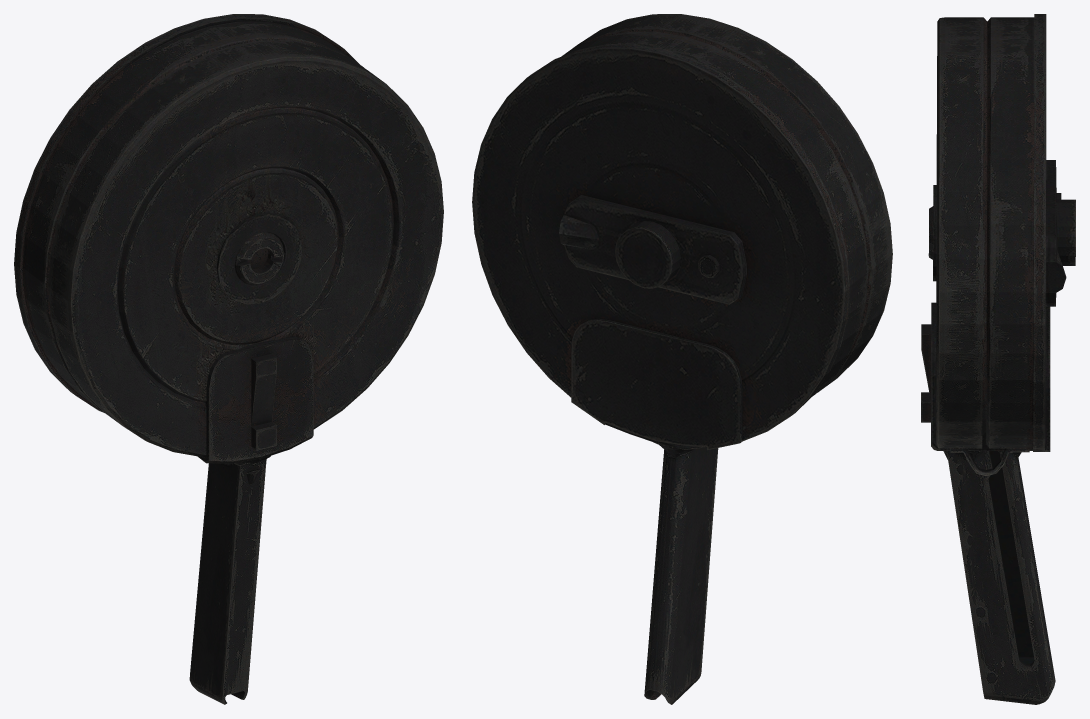
3 views of the same model, side by side, from view 1: azimuth 30°, elevation 25°; view 2: azimuth 150°, elevation 25°; view 3: azimuth 270°, elevation 25° (orthographic). The views are drawn at different scales.
Visible parts, largest first — view 1: TW_55d485be4bdc2d962f8b456f_PZ_Import; view 2: TW_55d485be4bdc2d962f8b456f_PZ_Import; view 3: TW_55d485be4bdc2d962f8b456f_PZ_Import.
Boxes of the visible parts, x1,y1,x2,y2 form: TW_55d485be4bdc2d962f8b456f_PZ_Import: [14, 14, 443, 704]; TW_55d485be4bdc2d962f8b456f_PZ_Import: [472, 14, 892, 704]; TW_55d485be4bdc2d962f8b456f_PZ_Import: [921, 14, 1075, 704].
Bounding box in the file's own units: 0.098 × 0.0347 × 0.1644.
Materials: 1 (1 with a texture image).
